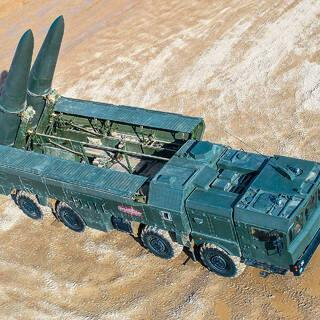rszo: (0, 76, 320, 284)
